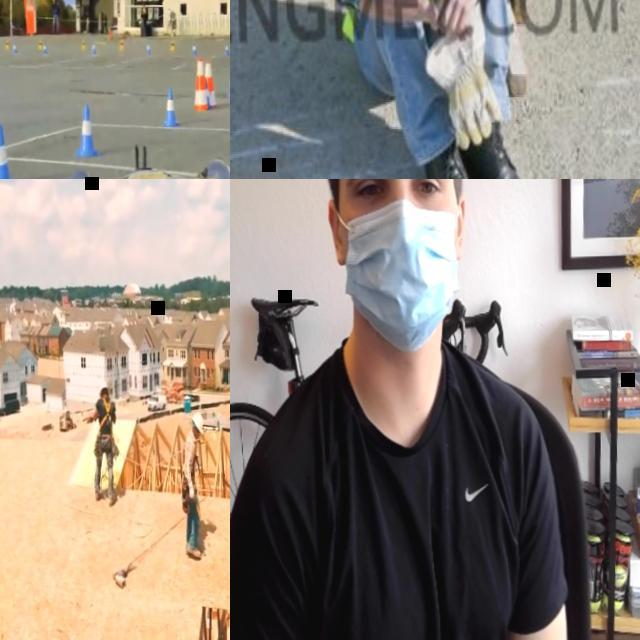helmet: (190, 412, 202, 433), (98, 382, 108, 396)
